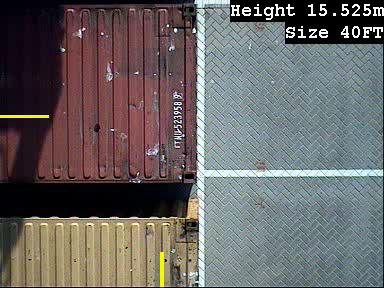groundmarker_2: (184, 45, 237, 72), (180, 172, 233, 199)
